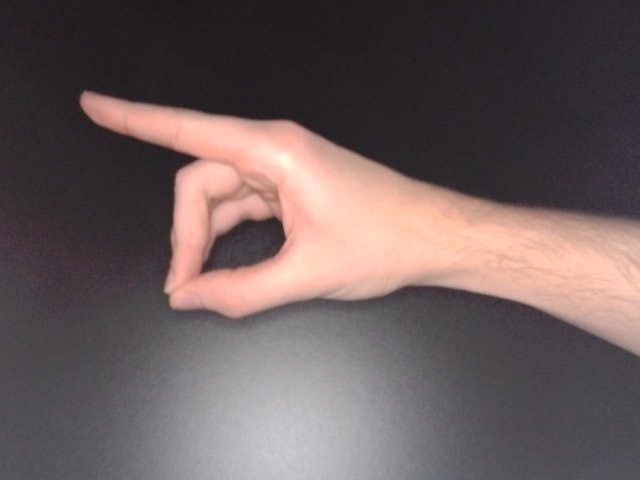p: (75, 86, 488, 325)
